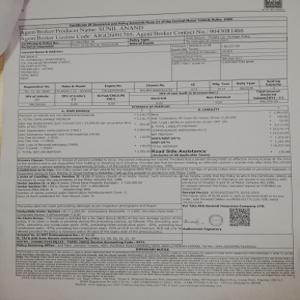table: (19, 16, 289, 104), (18, 107, 292, 157)
text: (16, 247, 293, 286)
